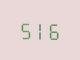five: (18, 19, 31, 39)
one: (33, 19, 46, 40)
six: (47, 20, 60, 40)
